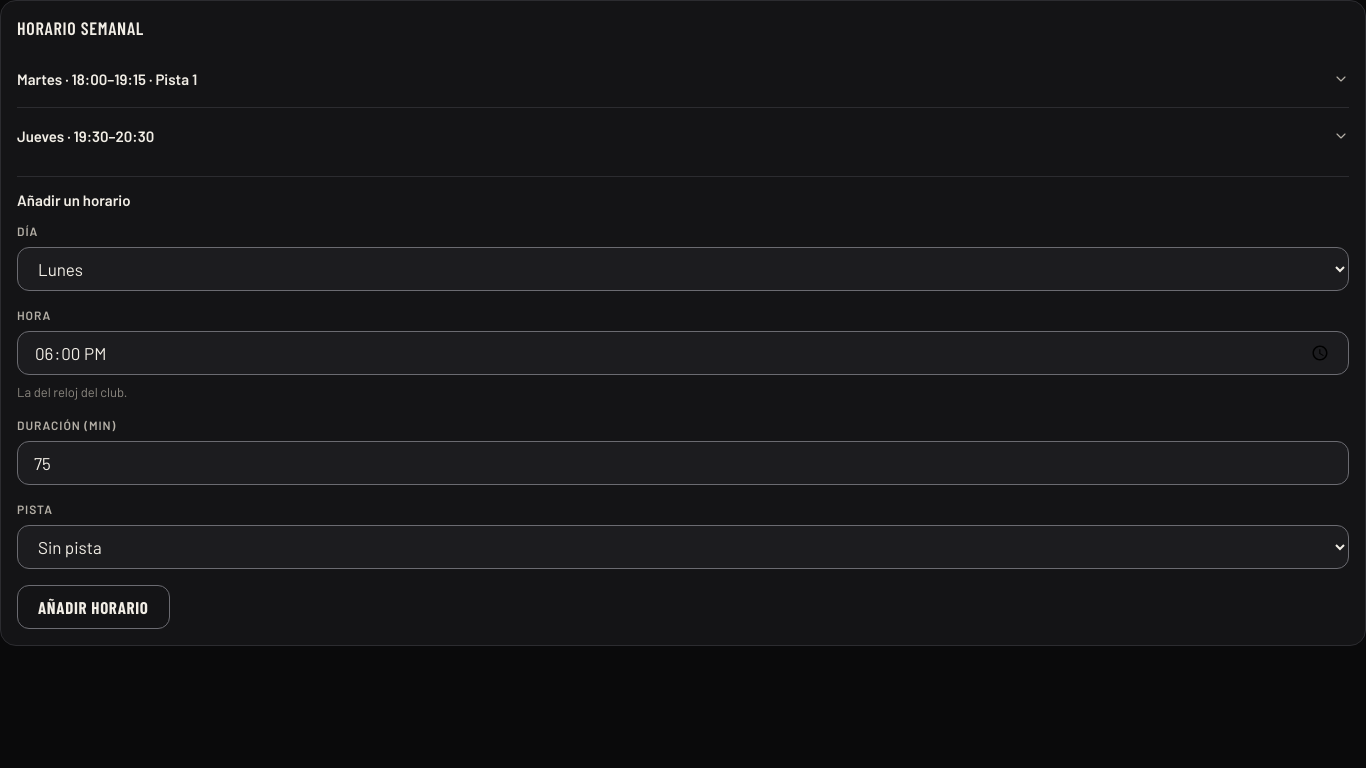
Test: ScheduleSection · añadir un horario › sin tocar nada manda los valores propuestos, para este equipo: el día y la duración como números y sin pista como `null`
What coordinates should you click on to do the following:
click the button "Añadir horario"
I would click on:
 (93, 607)
Its box is 17,585 -> 170,629.
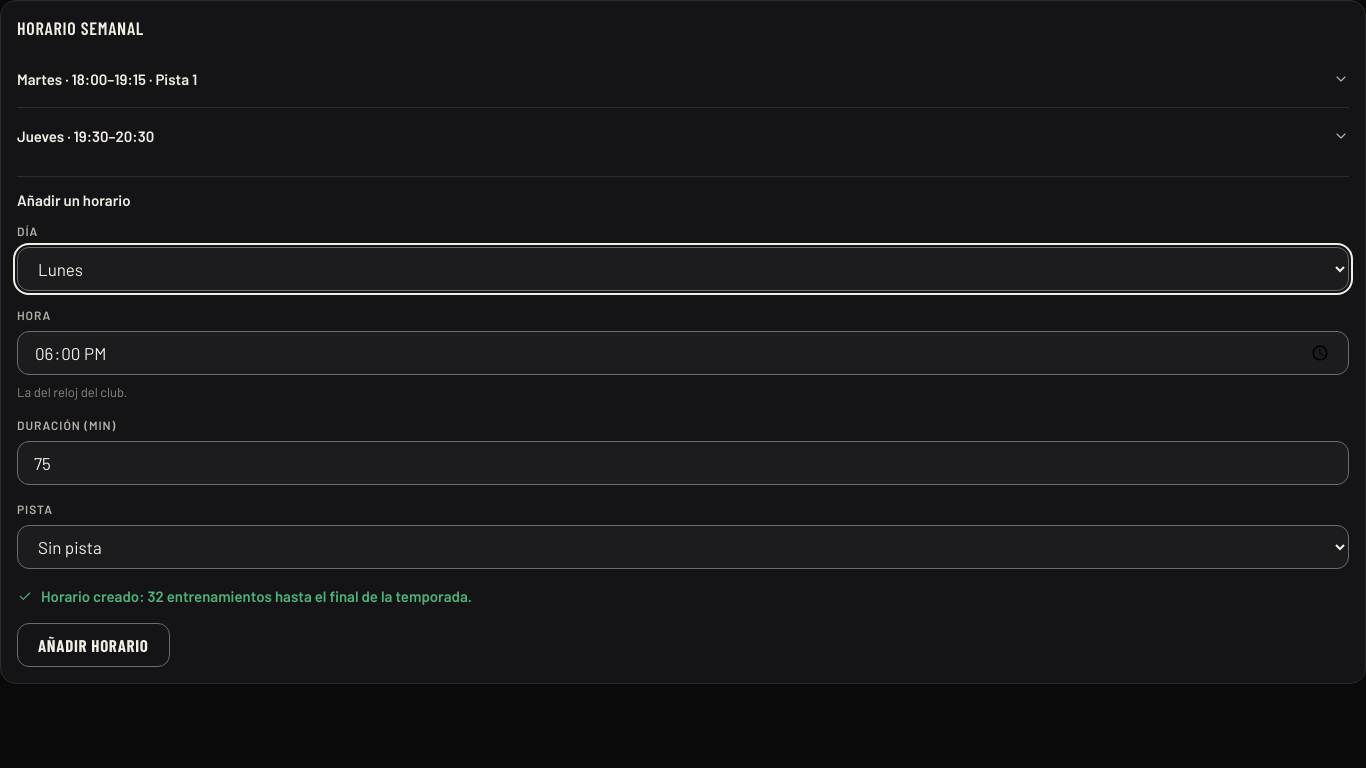
Expected: the text "Horario creado" is shown, 41,587 -> 472,605
